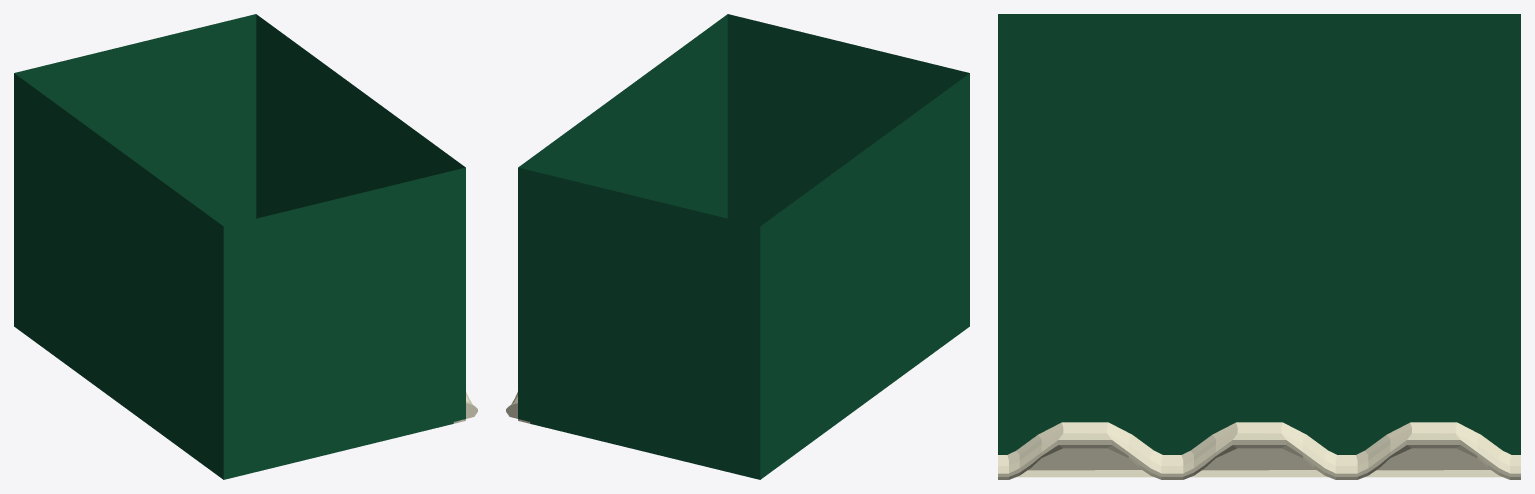
Rendered from Gaudi top 6x4x4.fbx.
The picture shows the model from 3 angles, left to right: view 1: azimuth 30°, elevation 25°; view 2: azimuth 150°, elevation 25°; view 3: azimuth 270°, elevation 25°; orthographic projection. The views are drawn at different scales.
Visible parts, largest first — view 1: Gaudi Top 6.001; view 2: Gaudi Top 6.001; view 3: Gaudi Top 6.001.
Part boxes in pixels (x1,y1,x2,y2): Gaudi Top 6.001: [14, 14, 477, 479]; Gaudi Top 6.001: [506, 14, 969, 479]; Gaudi Top 6.001: [998, 14, 1520, 479].
Bounding box in the file's own units: 420 × 400 × 600.
